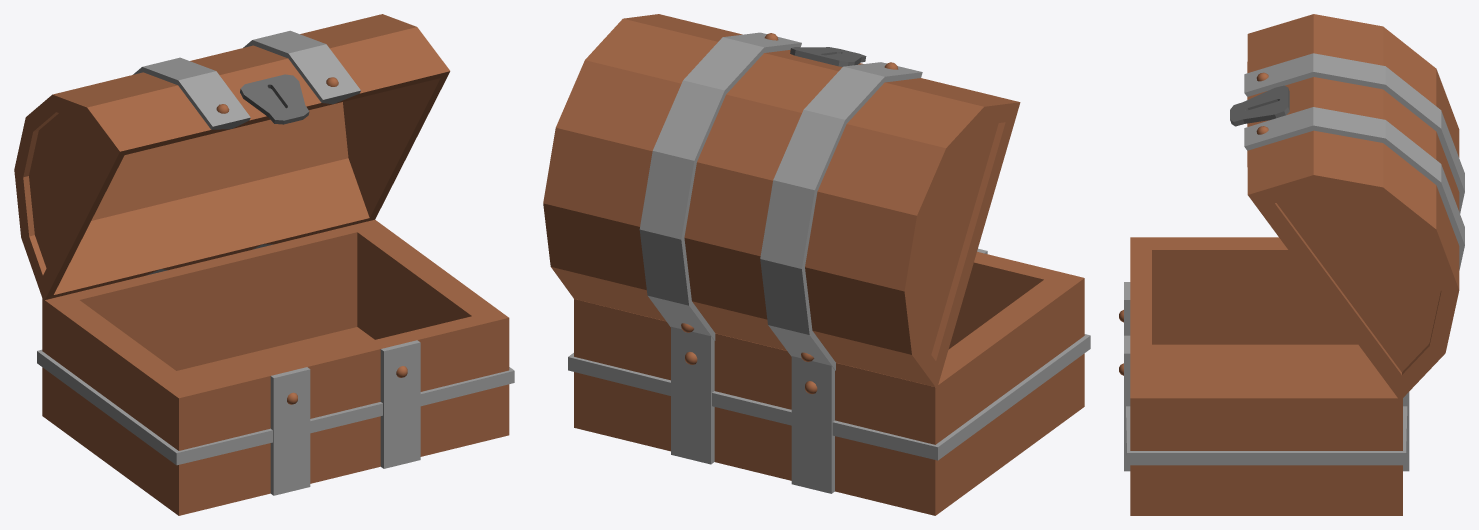
File: chest_inside.obj
3 renders of one model, left to right at view 1: azimuth 30°, elevation 25°; view 2: azimuth 150°, elevation 25°; view 3: azimuth 270°, elevation 25°, orthographic. The views are drawn at different scales.
Visible parts, largest first — view 1: chest_inside, chest_lid; view 2: chest_lid, chest_inside; view 3: chest_inside, chest_lid.
Boxes of the visible parts, x1,y1,x2,y2 form: chest_inside: (37,219,514,515); chest_lid: (14,14,450,301); chest_lid: (543,14,1020,388); chest_inside: (568,248,1090,515); chest_inside: (1119,237,1409,515); chest_lid: (1230,14,1464,400).
Bounding box in the file's own units: 0.4368 × 0.4274 × 0.3872.
